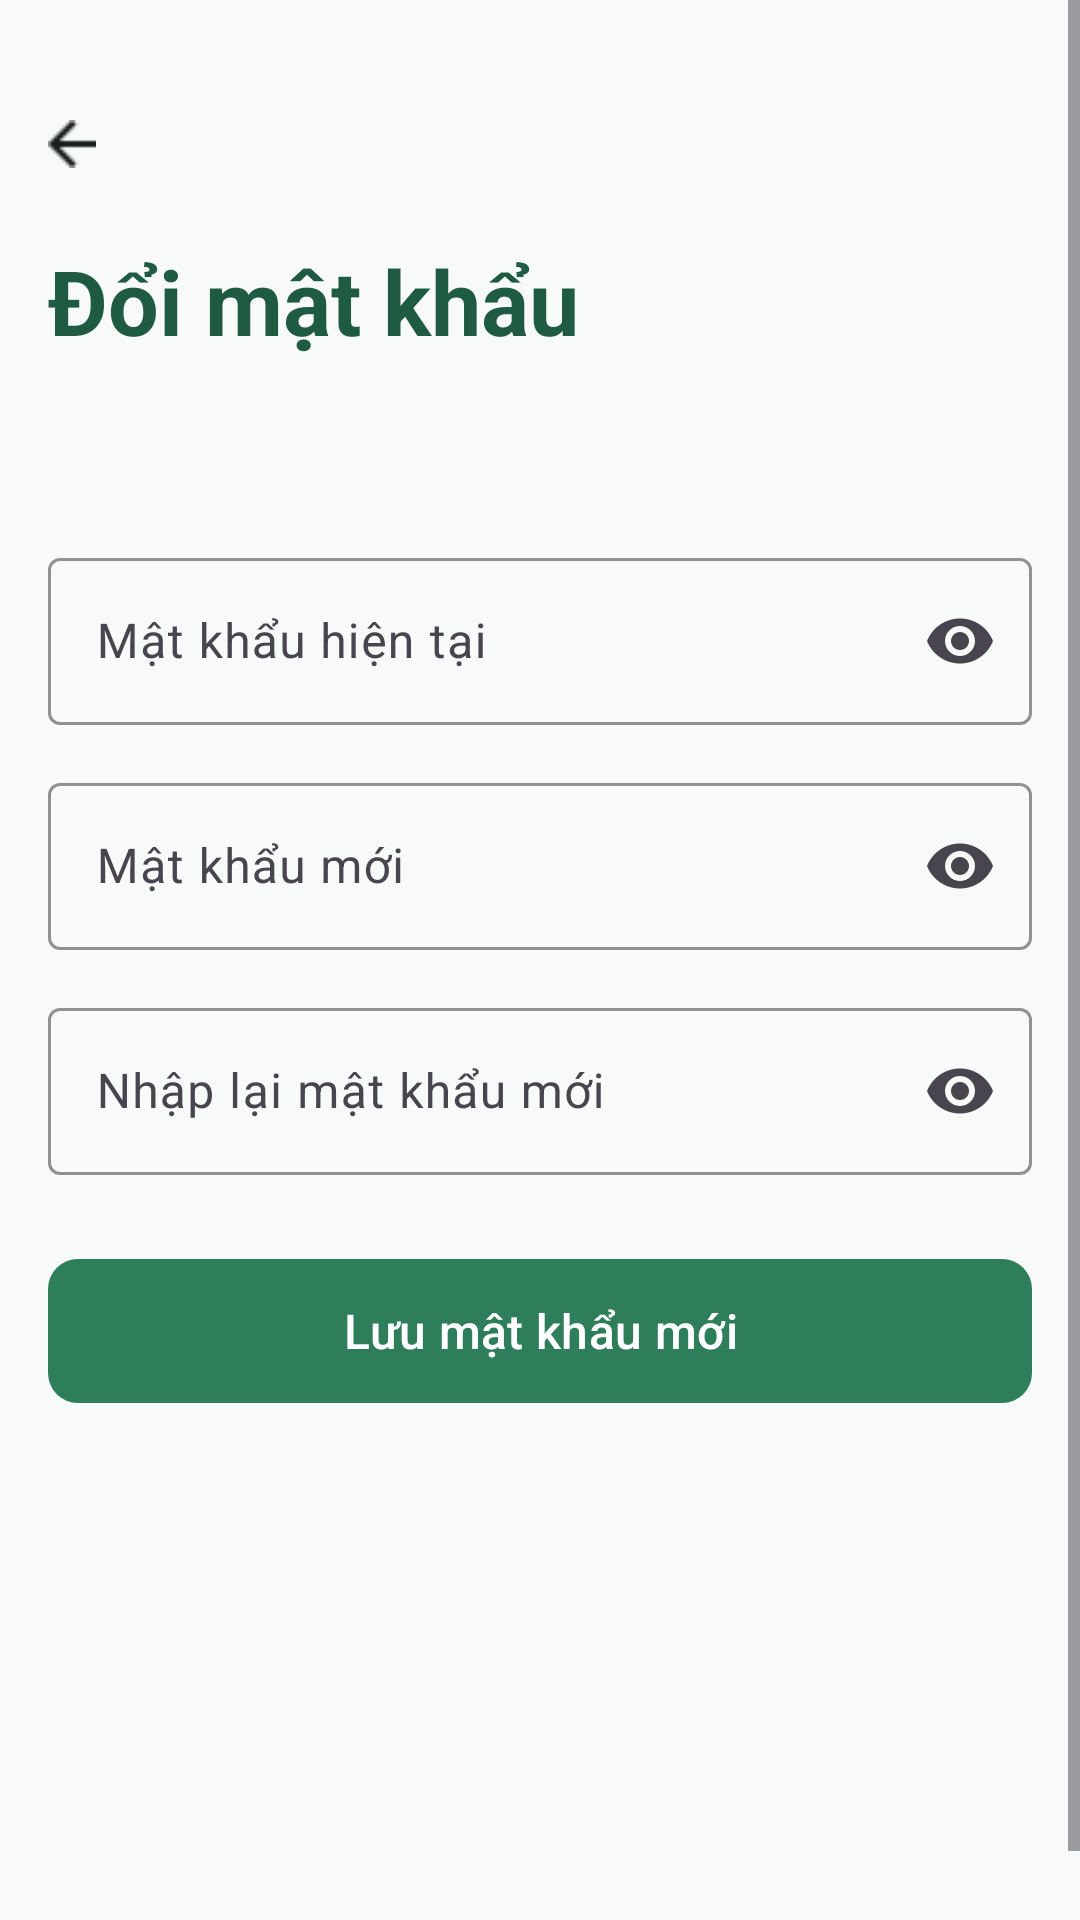

Screen size 1080 × 1920. Icon name, then its center in pixels as (x,y):
back: (72,144)
